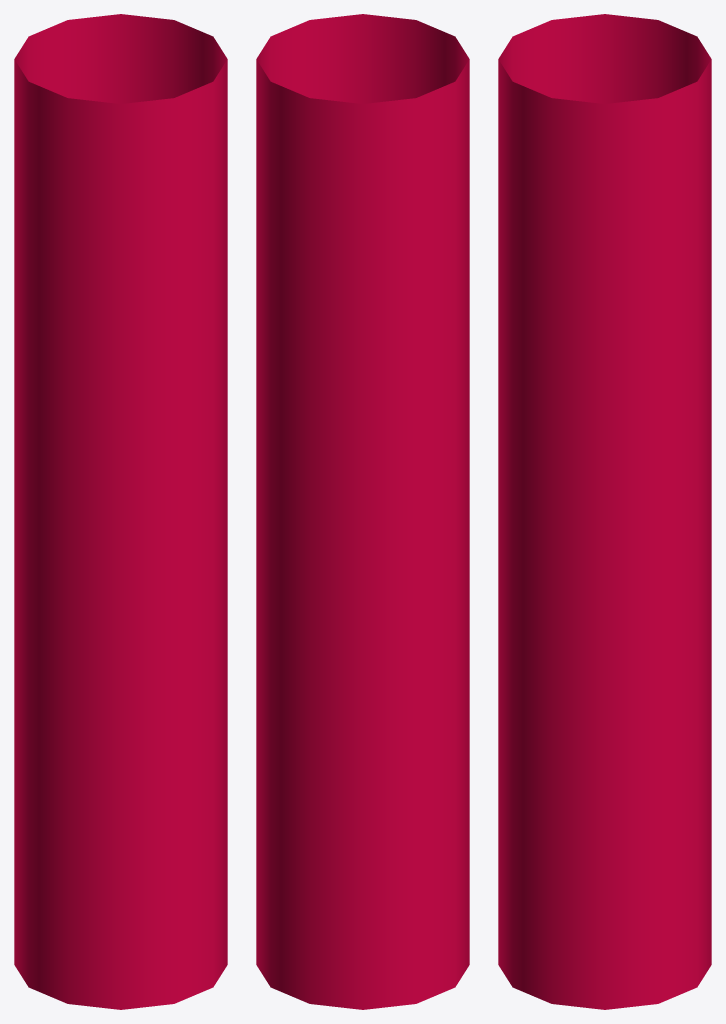
The model's file is pipe_m.FBX.
3 renders of one model, left to right at view 1: azimuth 30°, elevation 25°; view 2: azimuth 150°, elevation 25°; view 3: azimuth 270°, elevation 25°, orthographic.
Visible parts, largest first — view 1: pipe_m; view 2: pipe_m; view 3: pipe_m.
Part boxes in pixels (box(x1,y1,x2,y2)): pipe_m: box(14, 14, 227, 1009); pipe_m: box(256, 14, 469, 1009); pipe_m: box(498, 14, 711, 1009).
Size of the model in its own units: 6.4 by 30 by 6.4.
